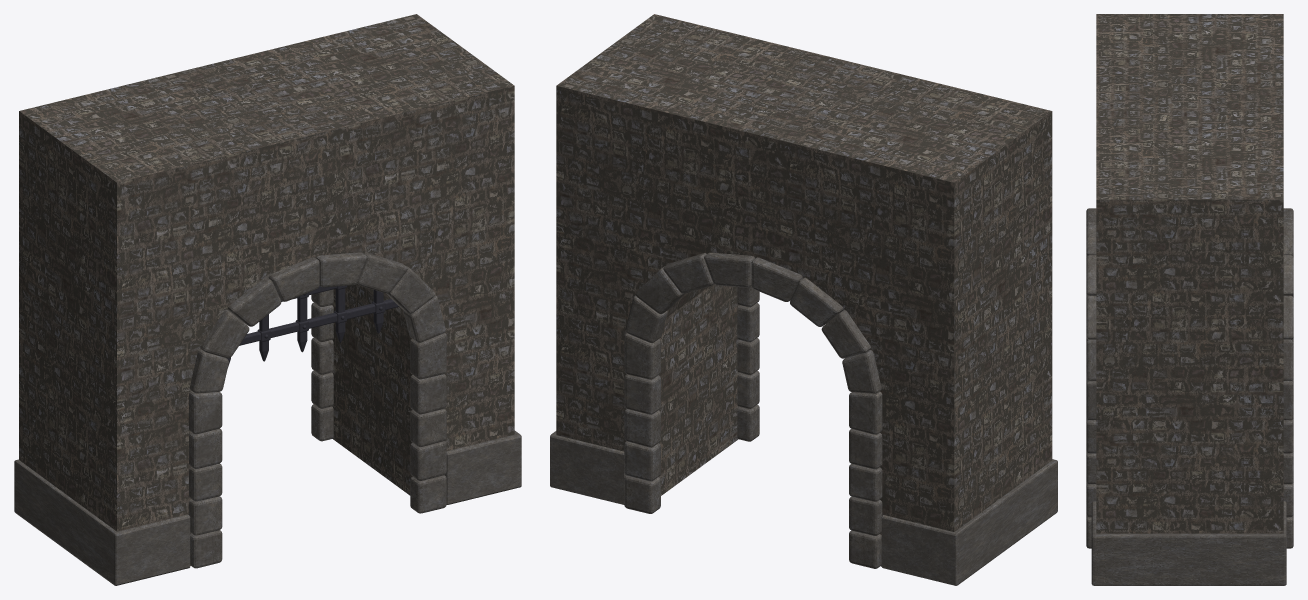
The model's file is SmallGate.fbx.
The picture shows the model from 3 angles, left to right: view 1: azimuth 30°, elevation 25°; view 2: azimuth 150°, elevation 25°; view 3: azimuth 270°, elevation 25°; orthographic projection. The views are drawn at different scales.
Visible parts, largest first — view 1: Small Gate with Portcullis; view 2: Small Gate with Portcullis; view 3: Small Gate with Portcullis.
Boxes of the visible parts, <box> form: Small Gate with Portcullis: <box>14,14,521,585</box>; Small Gate with Portcullis: <box>550,14,1057,585</box>; Small Gate with Portcullis: <box>1086,14,1293,585</box>.
Bounding box in the file's own units: 648 × 611 × 299.
